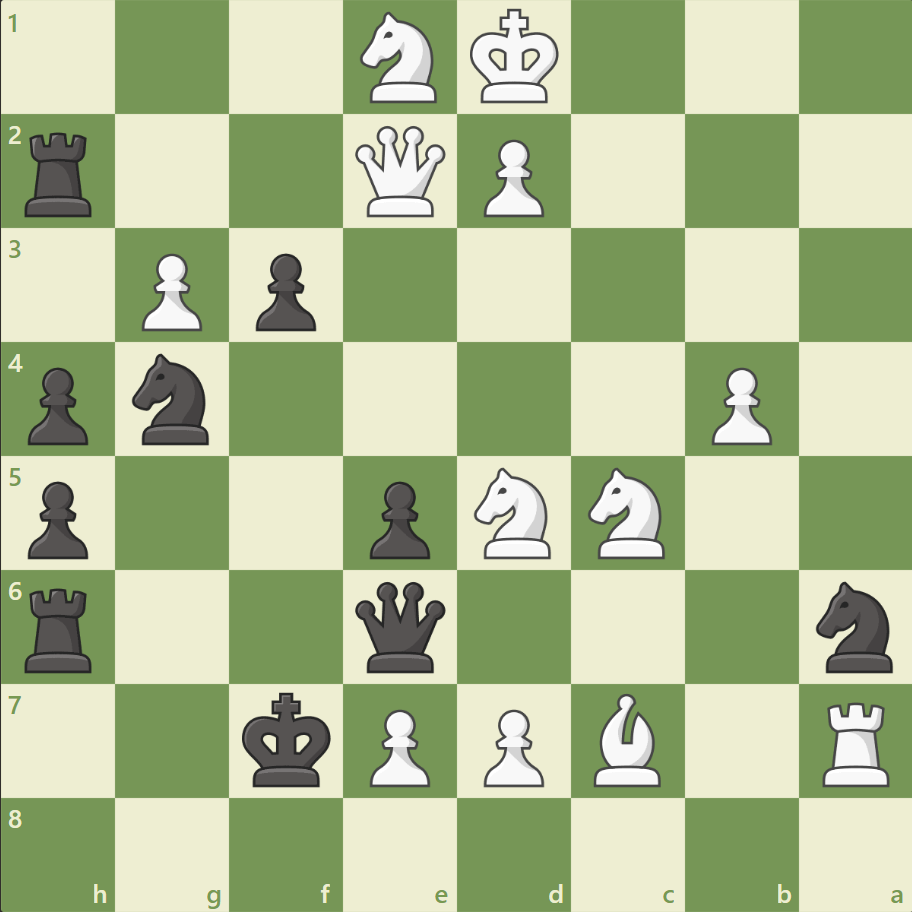B: (585, 687, 669, 790)
K: (465, 4, 565, 112)
N: (351, 7, 449, 110), (579, 461, 676, 564), (465, 461, 562, 564)
P: (474, 700, 549, 791), (701, 359, 776, 450), (133, 246, 208, 337), (474, 132, 549, 223), (361, 700, 435, 791)
Q: (351, 122, 450, 222)
R: (814, 693, 897, 790)
k: (238, 685, 338, 793)
n: (124, 348, 222, 450), (806, 575, 903, 677)
p: (20, 473, 95, 564), (20, 359, 95, 450), (247, 246, 322, 337), (361, 473, 435, 564)
q: (351, 576, 450, 676)
r: (19, 579, 102, 676), (19, 125, 102, 222)
